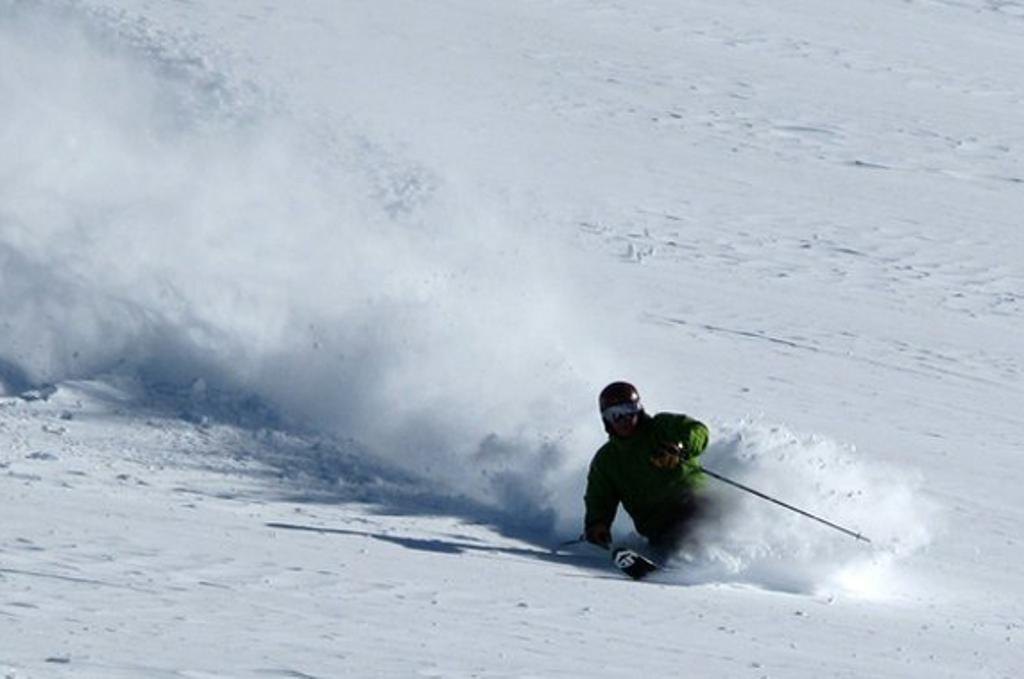face: (610, 404, 638, 438)
